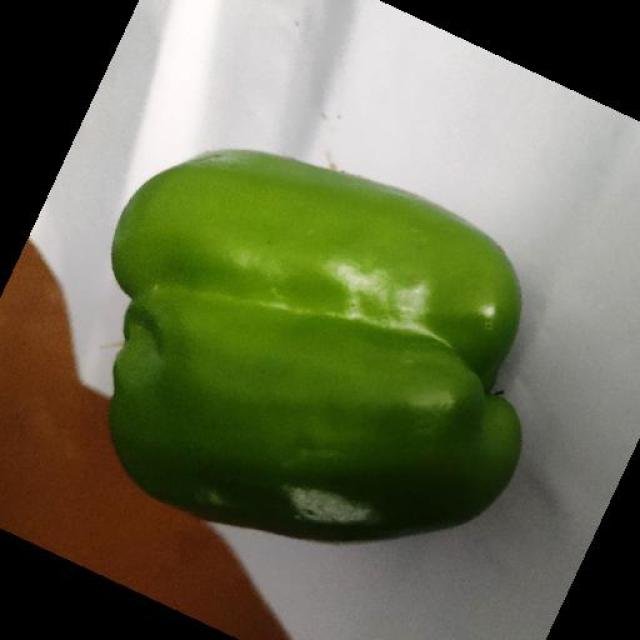Stale_Capsicum: (105, 171, 543, 575)
